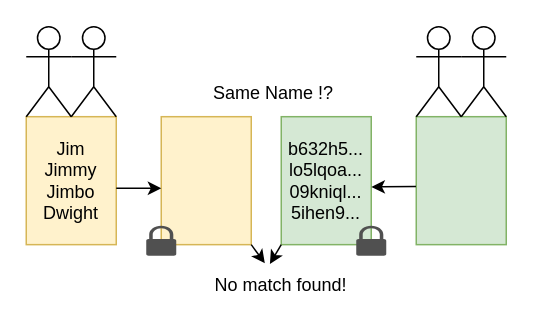
Some shapes in this 533 by 335 pixel diagram are drawn without their labels. Each missing label, with the box of its shape:
a52da... admit6... ncu4o... coa563...: (160, 115, 251, 245)
Micheal Mike Mickey Ryan: (415, 115, 506, 245)
